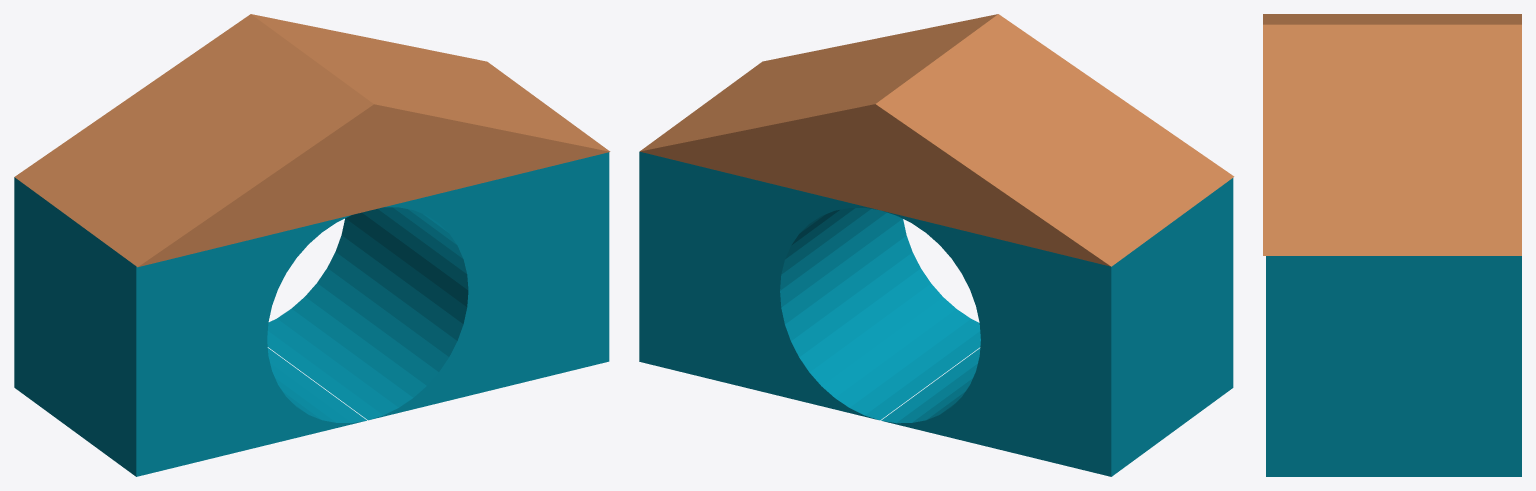
Rendered from House.glb.
3 renders of one model, left to right at view 1: azimuth 30°, elevation 25°; view 2: azimuth 150°, elevation 25°; view 3: azimuth 270°, elevation 25°, orthographic. The views are drawn at different scales.
Parts seen in each view (by area): view 1: Mesh_Mesh_head_geo.001_lambert2SG.001; view 2: Mesh_Mesh_head_geo.001_lambert2SG.001; view 3: Mesh_Mesh_head_geo.001_lambert2SG.001.
Boxes of the visible parts, box(x1,y1,x2,y2) form: Mesh_Mesh_head_geo.001_lambert2SG.001: box(14, 14, 610, 476); Mesh_Mesh_head_geo.001_lambert2SG.001: box(639, 14, 1234, 476); Mesh_Mesh_head_geo.001_lambert2SG.001: box(1263, 14, 1521, 476).
Bounding box in the file's own units: 47 × 30 × 21.22.
